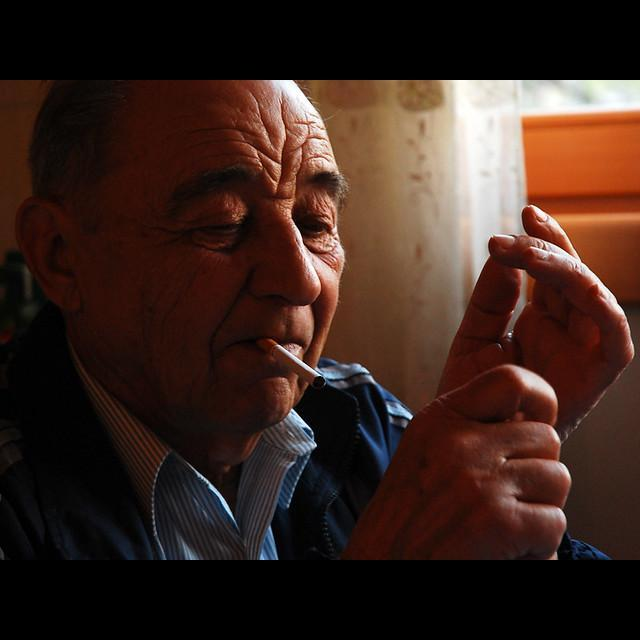rokok: (268, 338, 326, 390)
